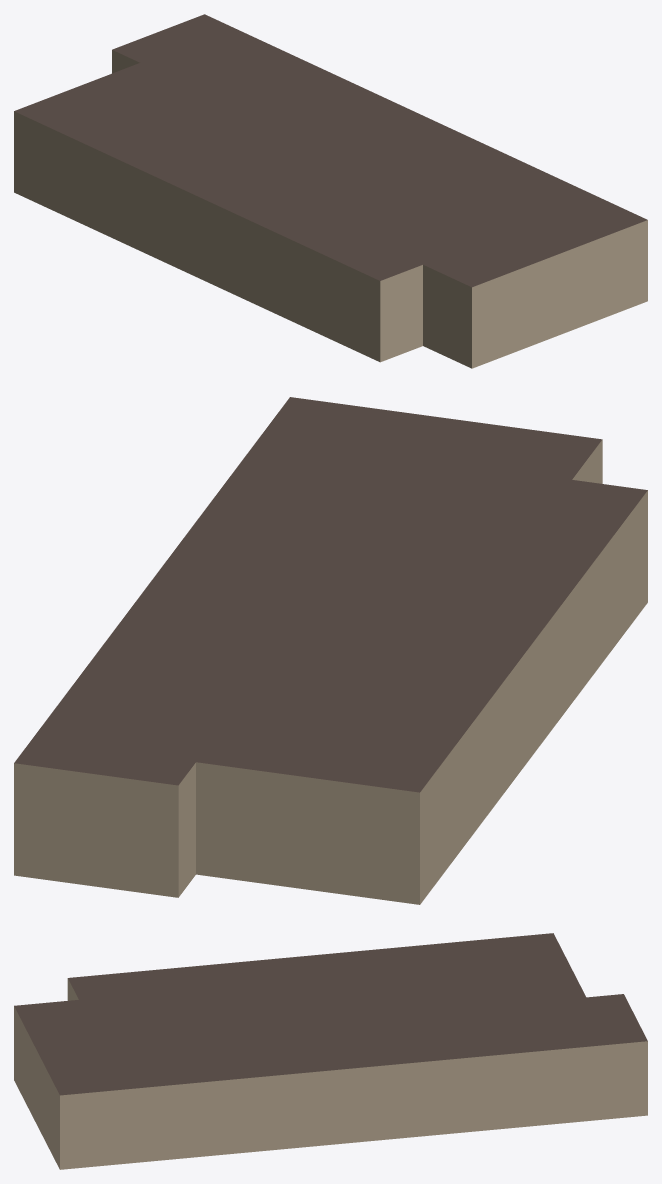
The picture shows the model from 3 angles, top to bottom: view 1: azimuth 30°, elevation 25°; view 2: azimuth 150°, elevation 25°; view 3: azimuth 270°, elevation 25°; orthographic projection. The views are drawn at different scales.
Visible parts, largest first — view 1: HP-w1376988753; view 2: HP-w1376988753; view 3: HP-w1376988753.
Part boxes in pixels (x1,y1,x2,y2): HP-w1376988753: (14, 14, 647, 368); HP-w1376988753: (14, 397, 647, 904); HP-w1376988753: (14, 933, 647, 1169).
Bounding box in the file's own units: 28.1 × 6 × 46.36.
